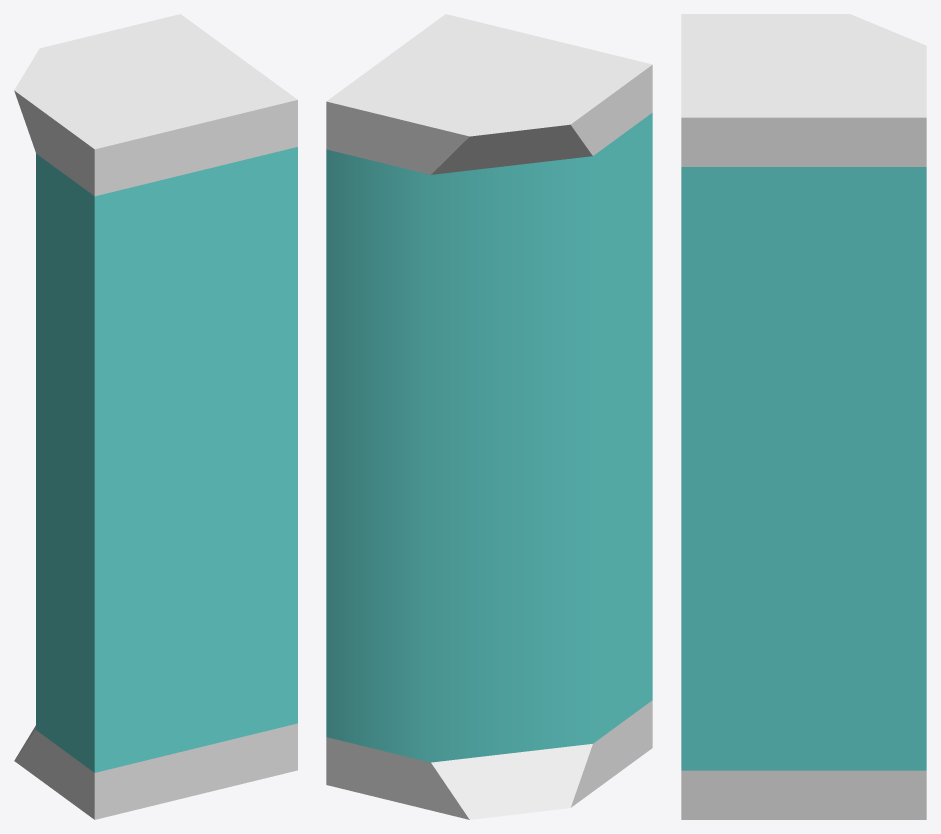
The model's file is WallClosedTurnTall.fbx.
3 views of the same model, side by side, from view 1: azimuth 30°, elevation 25°; view 2: azimuth 150°, elevation 25°; view 3: azimuth 270°, elevation 25° (orthographic). The views are drawn at different scales.
Parts seen in each view (by area): view 1: ClosedTurnTall; view 2: ClosedTurnTall; view 3: ClosedTurnTall.
Boxes of the visible parts, left/top/right/bottom form: ClosedTurnTall: left=14, top=14, right=297, bottom=819; ClosedTurnTall: left=326, top=14, right=652, bottom=819; ClosedTurnTall: left=681, top=14, right=926, bottom=819.
Bounding box in the file's own units: 78.74 × 248 × 78.75.
